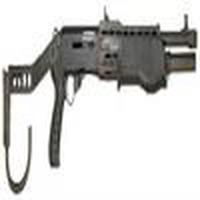gun: (3, 18, 192, 178)
